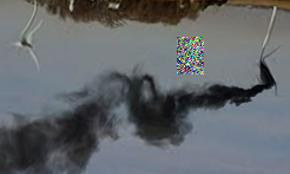faulty: (242, 39, 281, 104)
